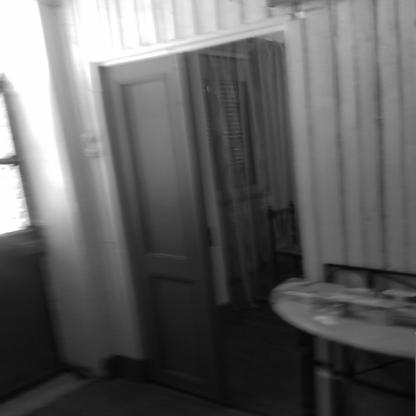open: (84, 7, 331, 414)
